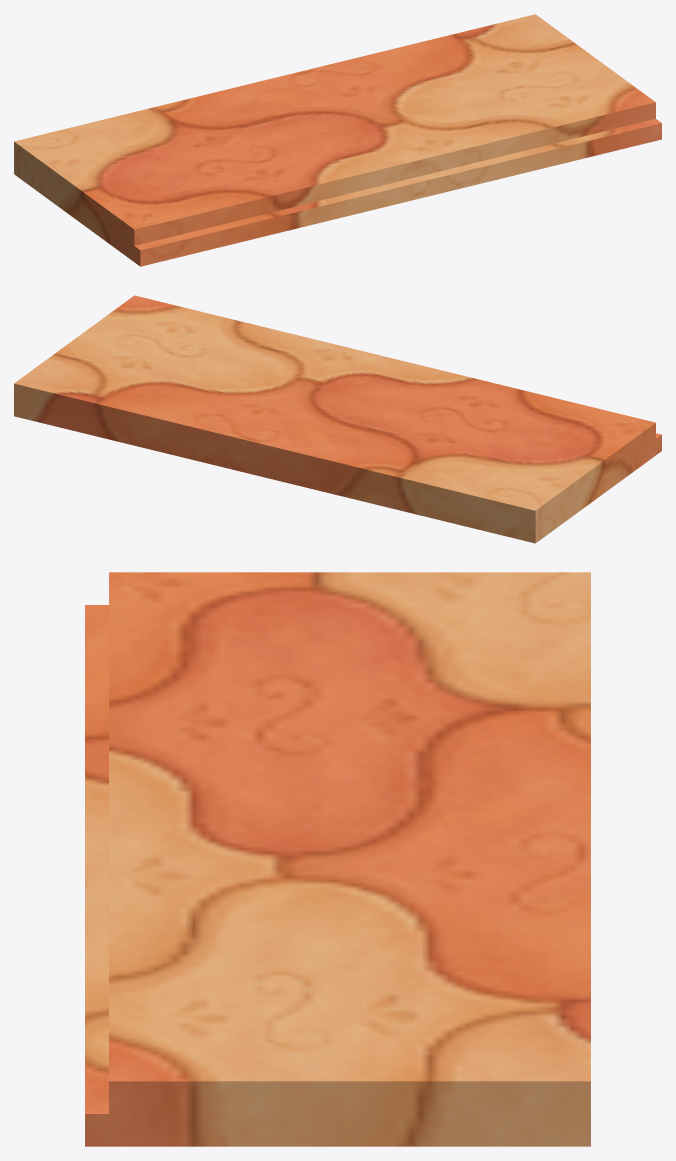
File: Pool_EdgeStone.fbx
3 renders of one model, top to bottom at view 1: azimuth 30°, elevation 25°; view 2: azimuth 150°, elevation 25°; view 3: azimuth 270°, elevation 25°, orthographic. The views are drawn at different scales.
Parts seen in each view (by area): view 1: Pool_EdgeStone; view 2: Pool_EdgeStone; view 3: Pool_EdgeStone.
Part boxes in pixels (box(x1,y1,x2,y2)): Pool_EdgeStone: box(14, 14, 661, 266); Pool_EdgeStone: box(14, 295, 661, 543); Pool_EdgeStone: box(85, 572, 590, 1146).
Size of the model in its own units: 1 by 0.06 by 0.42.
